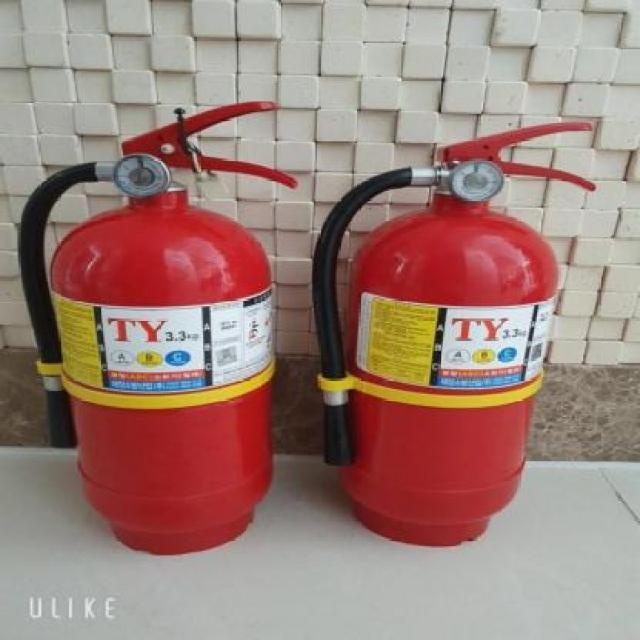fire extinguisher: (17, 100, 300, 557), (311, 121, 594, 547)
